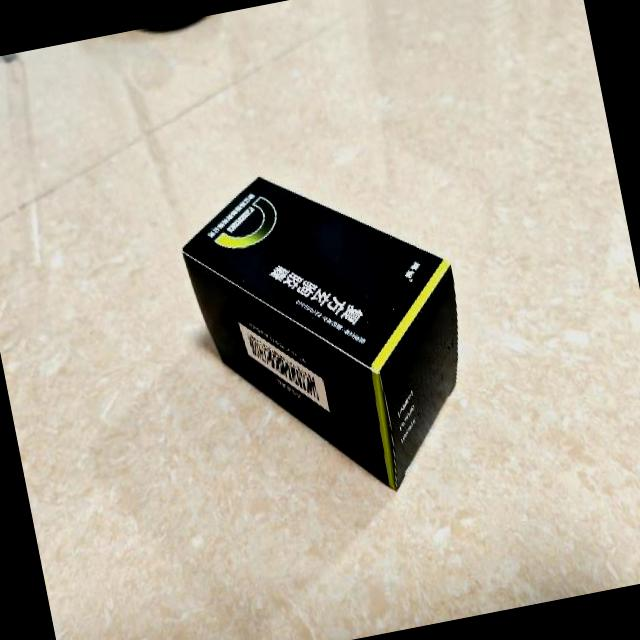box: (168, 141, 490, 520)
